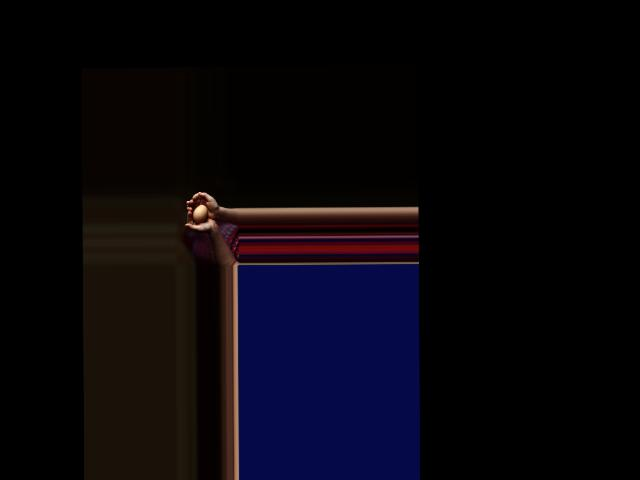egg: (192, 205, 207, 223)
